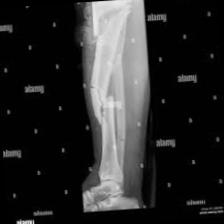comminuted-fracture: (56, 0, 171, 213)
